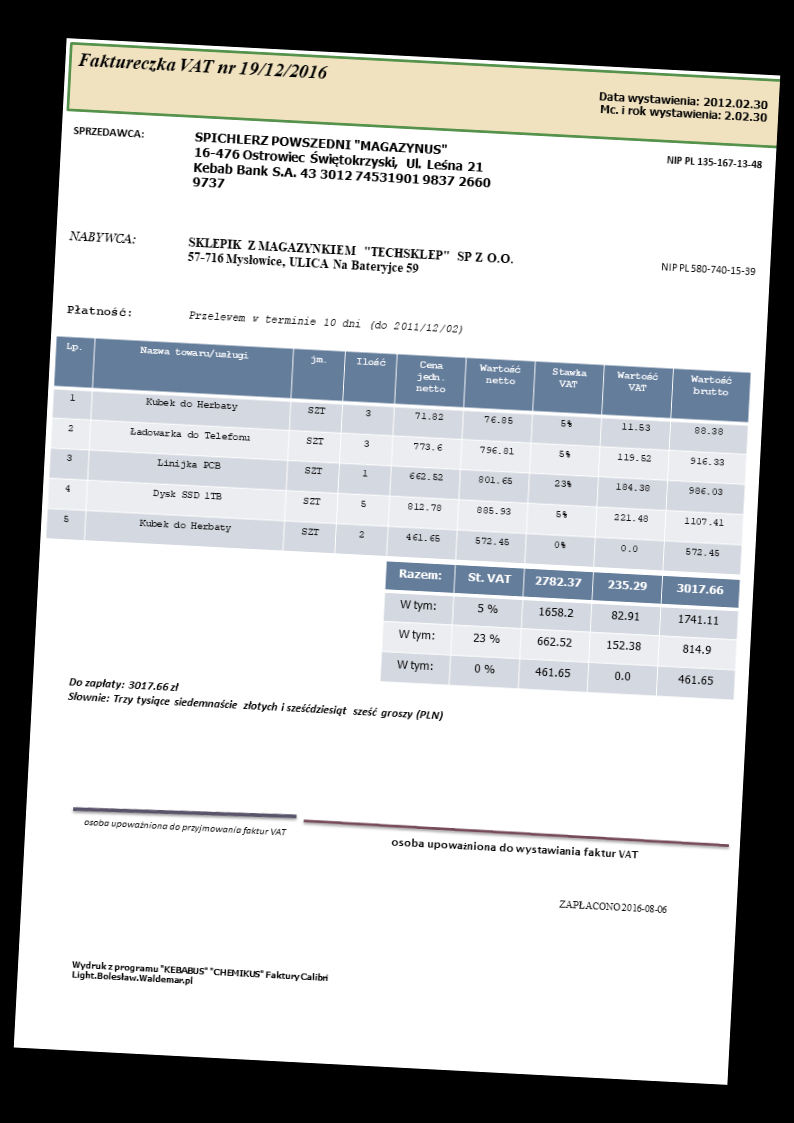Table: (44, 333, 753, 577), (379, 560, 741, 701)
TextBox: (189, 128, 496, 205), (65, 674, 446, 725), (185, 234, 514, 282), (70, 957, 331, 994), (186, 306, 465, 338), (76, 49, 330, 84), (388, 834, 639, 863), (596, 88, 770, 125), (81, 815, 289, 841), (555, 896, 669, 917), (659, 259, 758, 280), (665, 152, 766, 171), (66, 226, 139, 247), (71, 122, 145, 141), (65, 301, 136, 319)
